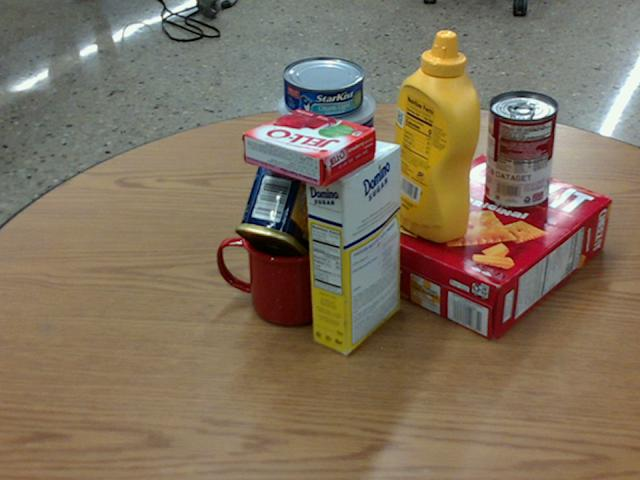cracker_box: (361, 153, 609, 340)
gelatin_box: (241, 107, 376, 187)
large_marker: (405, 111, 424, 212)
master_chef_can: (279, 83, 376, 239)
mug: (214, 208, 335, 325)
mustard_bottle: (387, 30, 480, 242)
potted_meat_can: (235, 144, 335, 266)
sugar_box: (303, 137, 399, 353)
tomato_soup_can: (484, 90, 557, 207)
tuna_fish_can: (282, 56, 364, 117)
